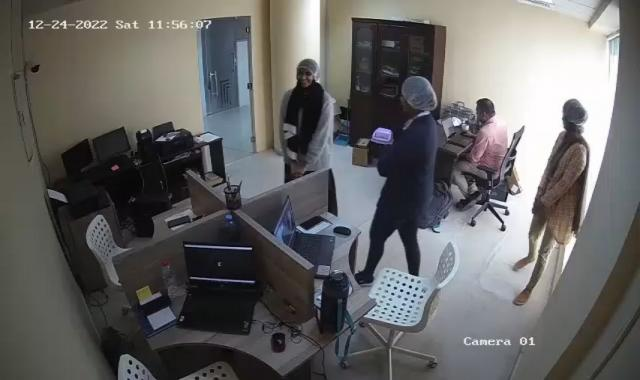hairnet: (398, 77, 438, 113), (294, 60, 322, 90), (560, 98, 588, 126)
no_hairnet: (474, 97, 498, 125)
